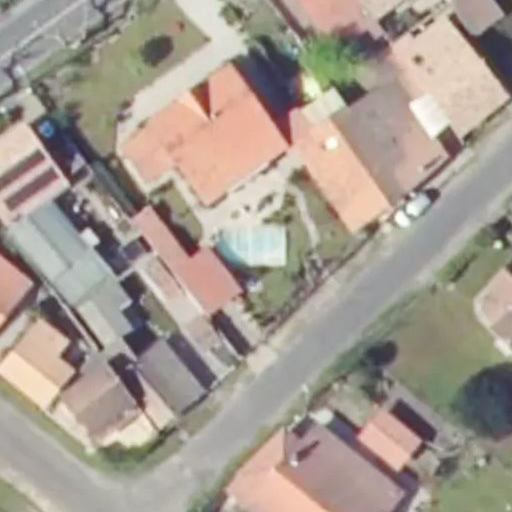pool: (236, 226, 275, 257)
